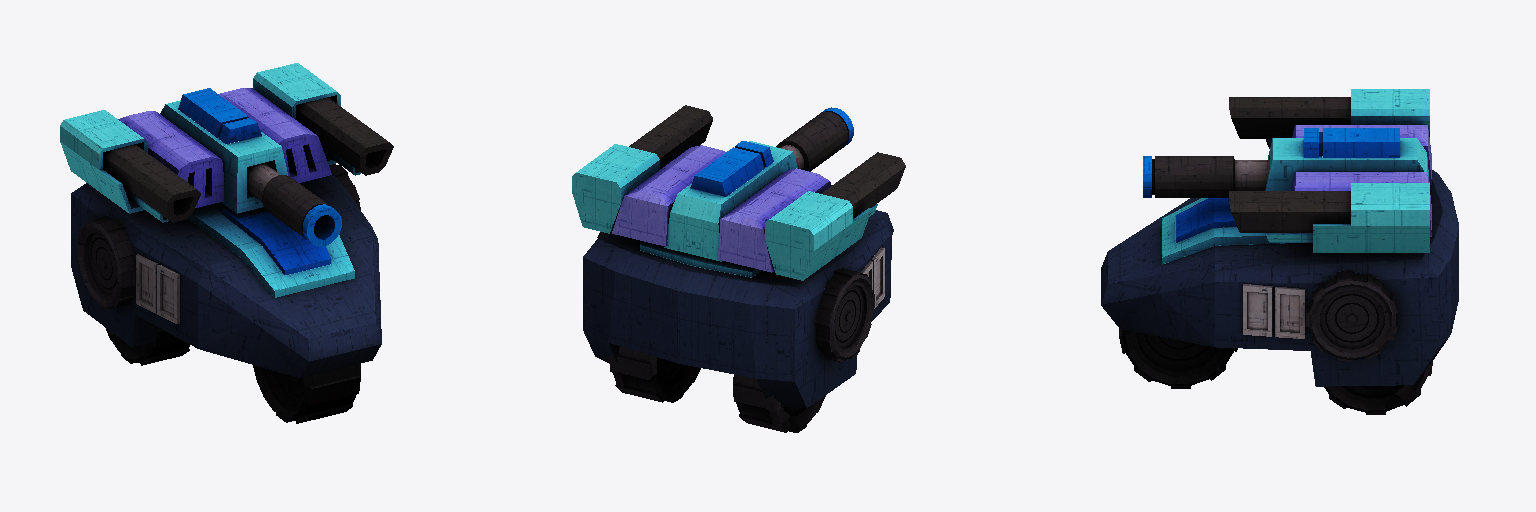
3 renders of one model, left to right at view 1: azimuth 30°, elevation 25°; view 2: azimuth 150°, elevation 25°; view 3: azimuth 270°, elevation 25°, orthographic.
Visible parts, largest first — view 1: Object001, Object002, Object004, Object003; view 2: Object001, Object002, Object003; view 3: Object001, Object002, Object004, Object003.
Part boxes in pixels (x1,y1,x2,y2): Object001: (71, 88, 381, 377); Object002: (60, 63, 393, 222); Object004: (253, 364, 360, 423); Object003: (105, 327, 189, 365); Object001: (583, 107, 893, 407); Object002: (572, 105, 905, 280); Object003: (609, 346, 825, 432); Object001: (1101, 125, 1458, 386); Object002: (1229, 89, 1429, 252); Object004: (1119, 329, 1237, 388); Object003: (1324, 361, 1432, 414).
Bounding box in the file's own units: 93.13 × 88.49 × 119.
1 materials, 1 textured.